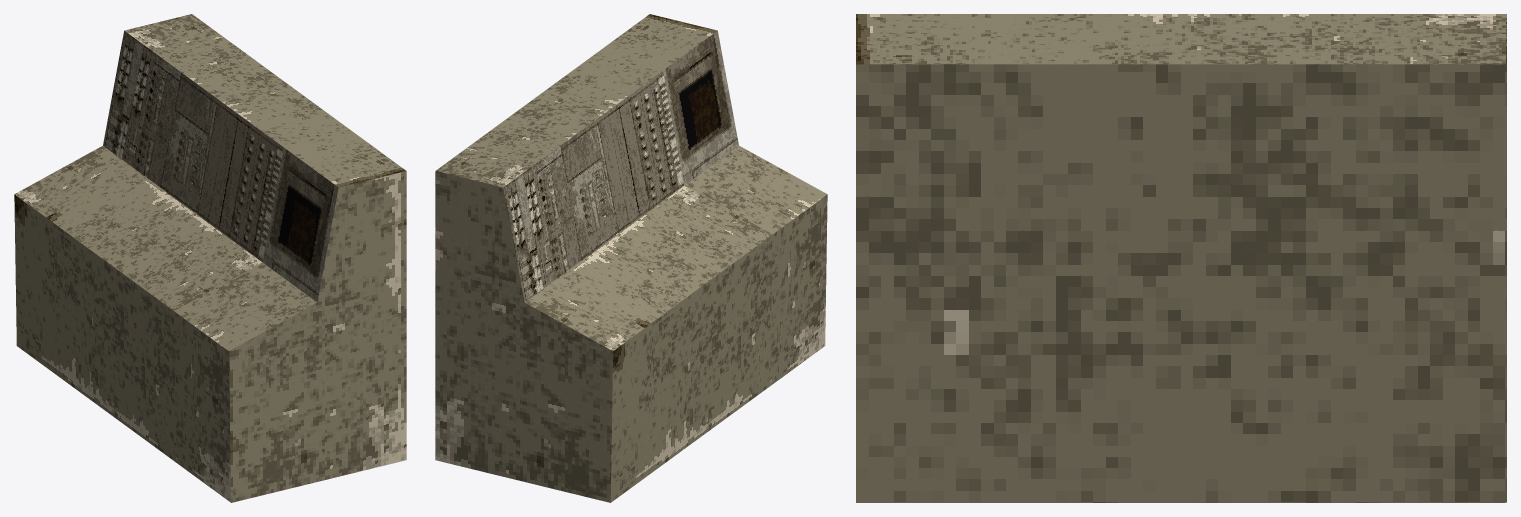
File: terminal.glb
3 renders of one model, left to right at view 1: azimuth 30°, elevation 25°; view 2: azimuth 150°, elevation 25°; view 3: azimuth 270°, elevation 25°, orthographic. The views are drawn at different scales.
Parts seen in each view (by area): view 1: terminal; view 2: terminal; view 3: terminal.
Part boxes in pixels (<box>): terminal: <box>14,14,406,502</box>; terminal: <box>435,14,827,502</box>; terminal: <box>856,14,1506,502</box>.
Bounding box in the file's own units: 1 × 1.56 × 2.1.
1 material, 1 textured.
